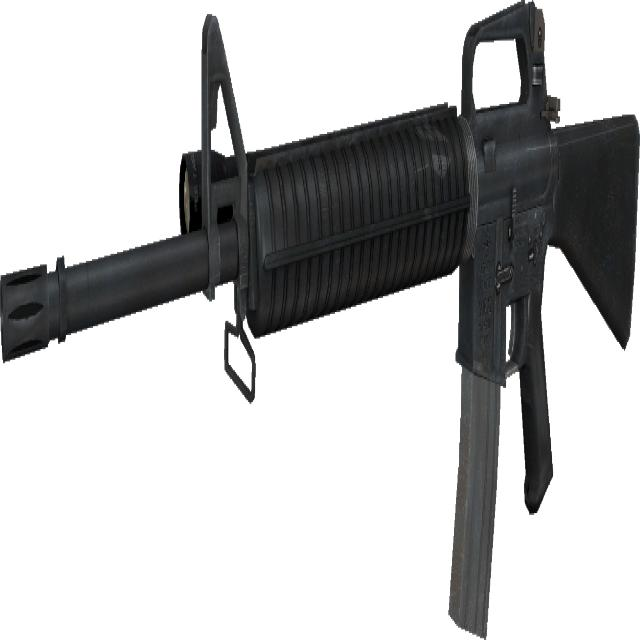Rifle: (0, 2, 640, 640)
